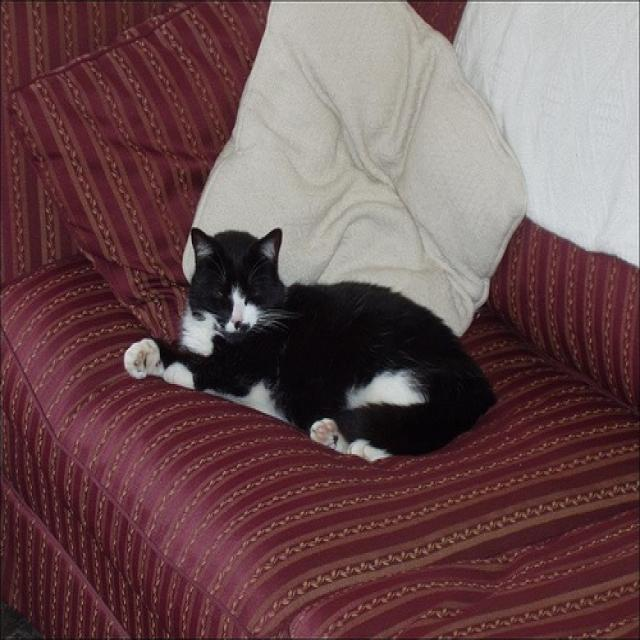cat: (123, 226, 500, 470)
